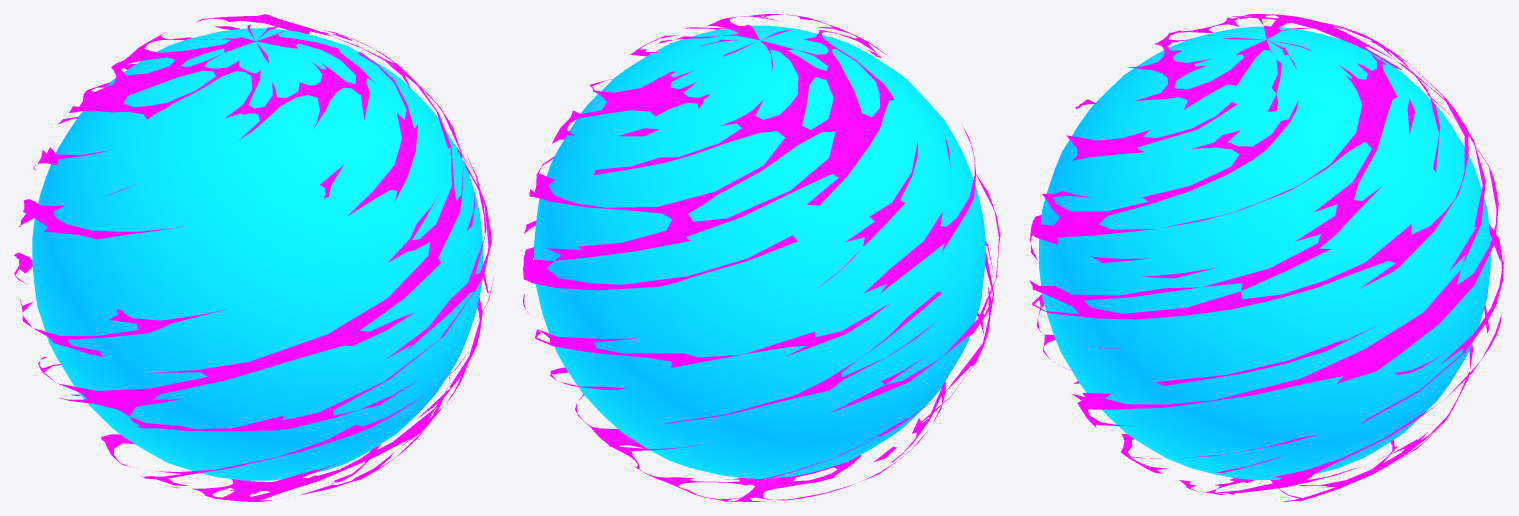
3 views of the same model, side by side, from view 1: azimuth 30°, elevation 25°; view 2: azimuth 150°, elevation 25°; view 3: azimuth 270°, elevation 25° (orthographic).
Visible parts, largest first — view 1: Сфера001, Сфера; view 2: Сфера001, Сфера; view 3: Сфера001, Сфера.
Part boxes in pixels (bbox=[...]): Сфера001: bbox=[32, 28, 483, 480]; Сфера: bbox=[14, 14, 493, 501]; Сфера001: bbox=[534, 25, 985, 478]; Сфера: bbox=[523, 14, 1000, 501]; Сфера001: bbox=[1039, 26, 1490, 479]; Сфера: bbox=[1029, 14, 1504, 501].
Size of the model in its own units: 190 by 195 by 189.
